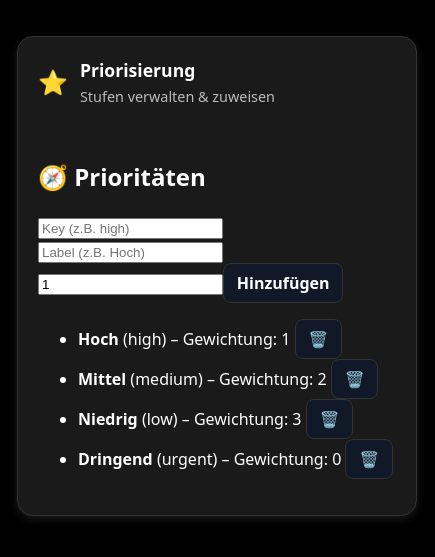
Prio › should clear form fields after adding priority
The width and height of the screenshot is (435, 557).
In the field with placeholder "Key (z.B. high)": (130, 229) [38,218,223,239], type "test"
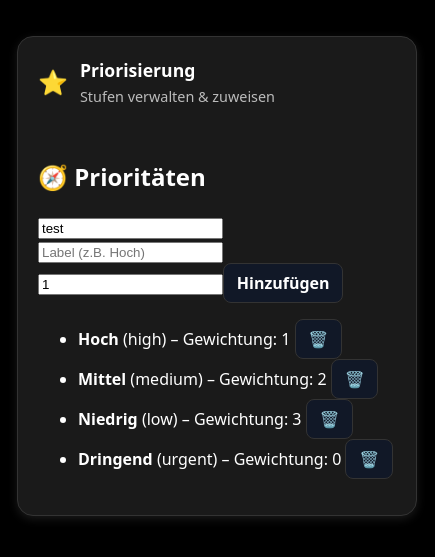
In the field with placeholder "Label (z.B. Hoch)": (130, 253) [38,242,223,263], type "Test"
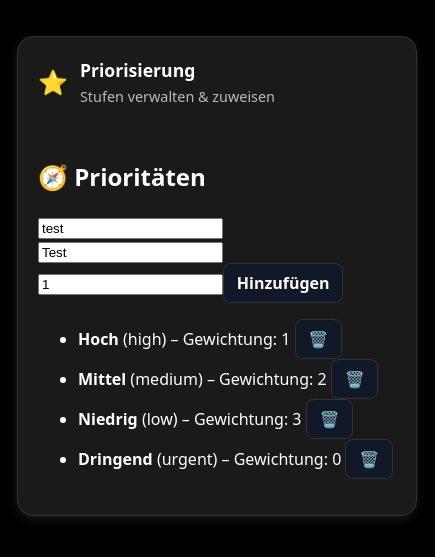
Replace the text in the number field with "5": (130, 285) [38,274,223,295]
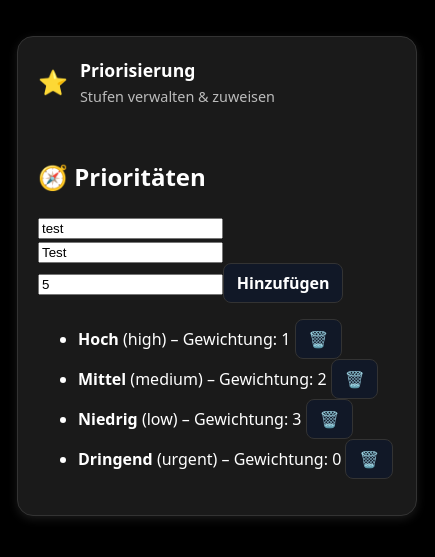
Submit the form, box [38,215,396,303]
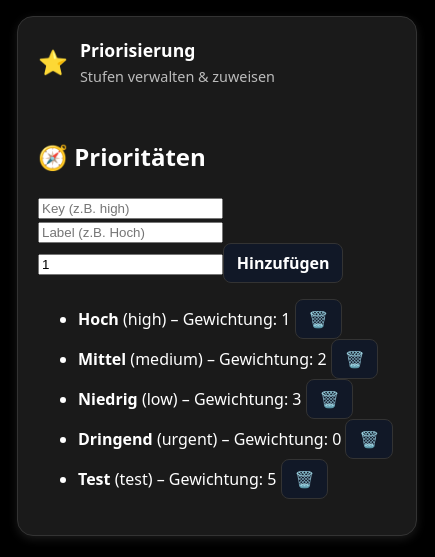
Expected: the field with placeholder "Key (z.B. high)" is empty, [38,198,223,219]
Expected: the field with placeholder "Label (z.B. Hoch)" is empty, [38,222,223,243]
Expected: the number field holds "1", [38,254,223,275]
